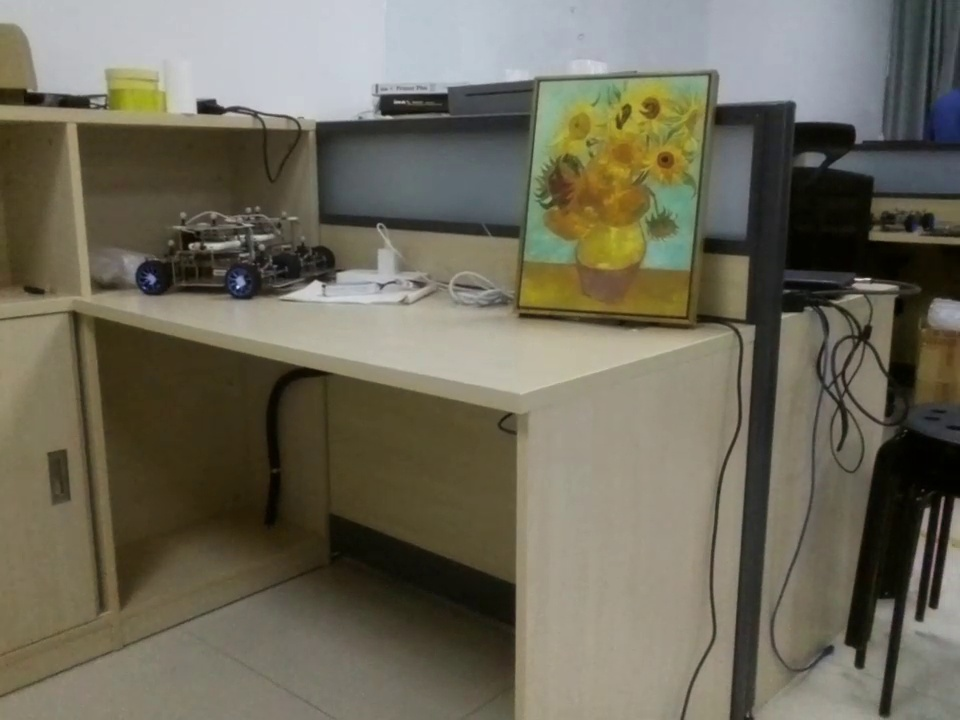painting: (518, 77, 721, 327)
